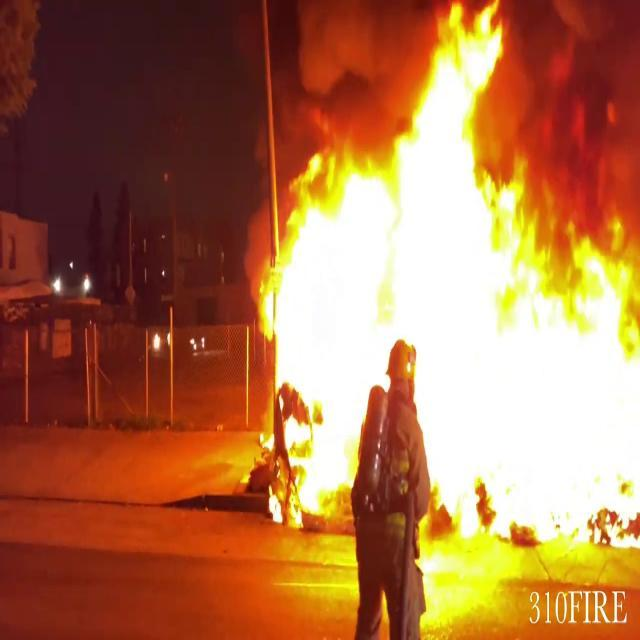Fire: (253, 2, 640, 557)
Smoke: (284, 0, 412, 142)
